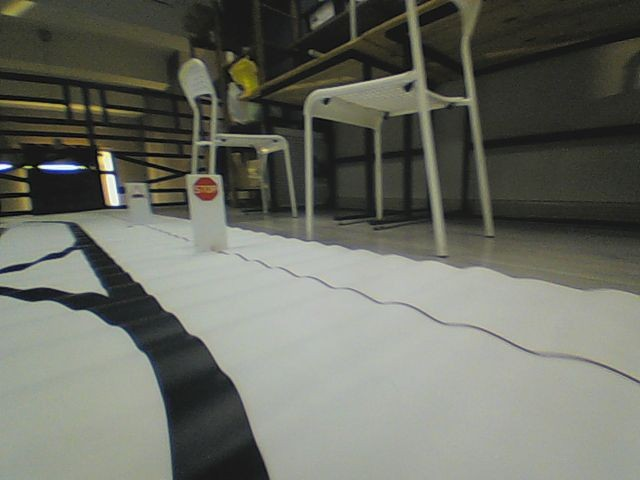Stop: (193, 176, 218, 202)
